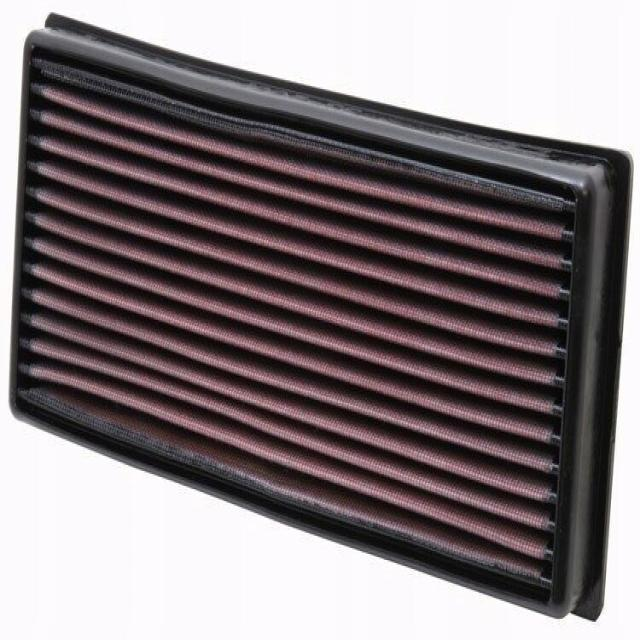air_filter: (41, 49, 594, 607)
